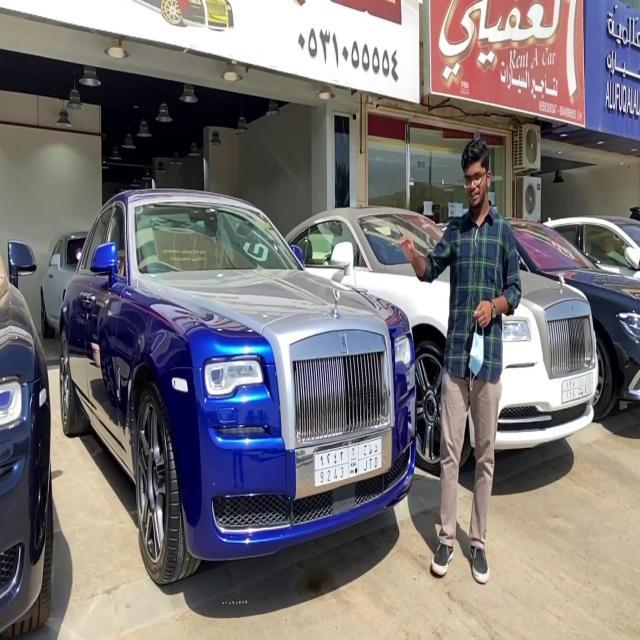license_plate: (310, 431, 384, 489), (558, 366, 594, 410)
